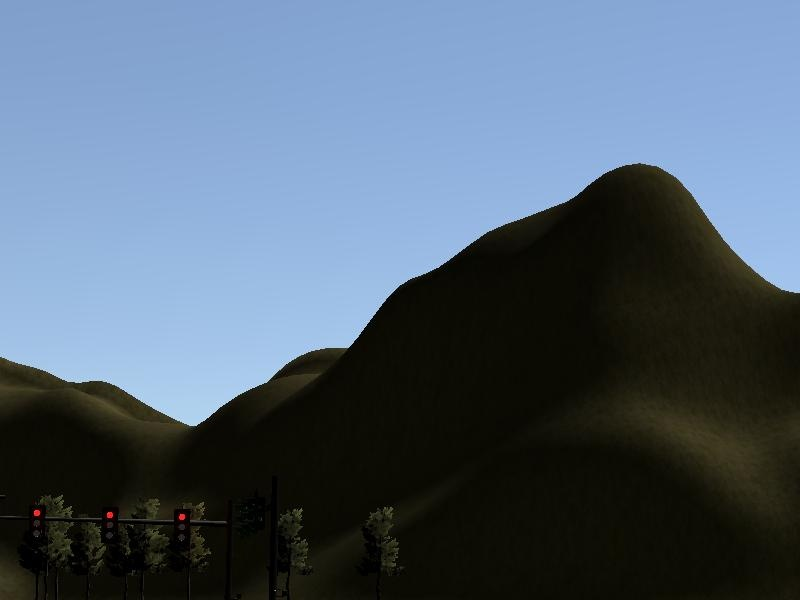RED: (102, 506, 121, 546), (27, 504, 46, 544), (172, 508, 191, 548)
